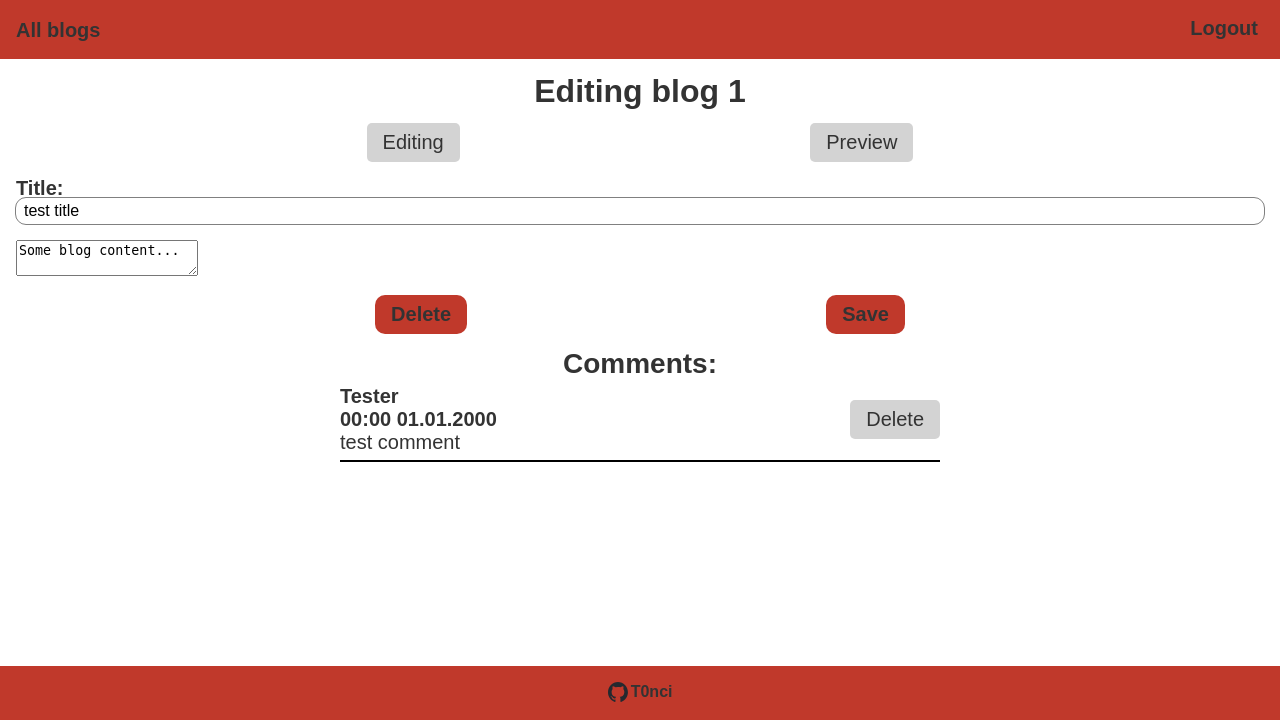
Test: BlogForm Component › deletes a comment
Click the button "Delete" in the row of "Tester" at coordinates (895, 419), box x1=850 y1=400 x2=940 y2=439
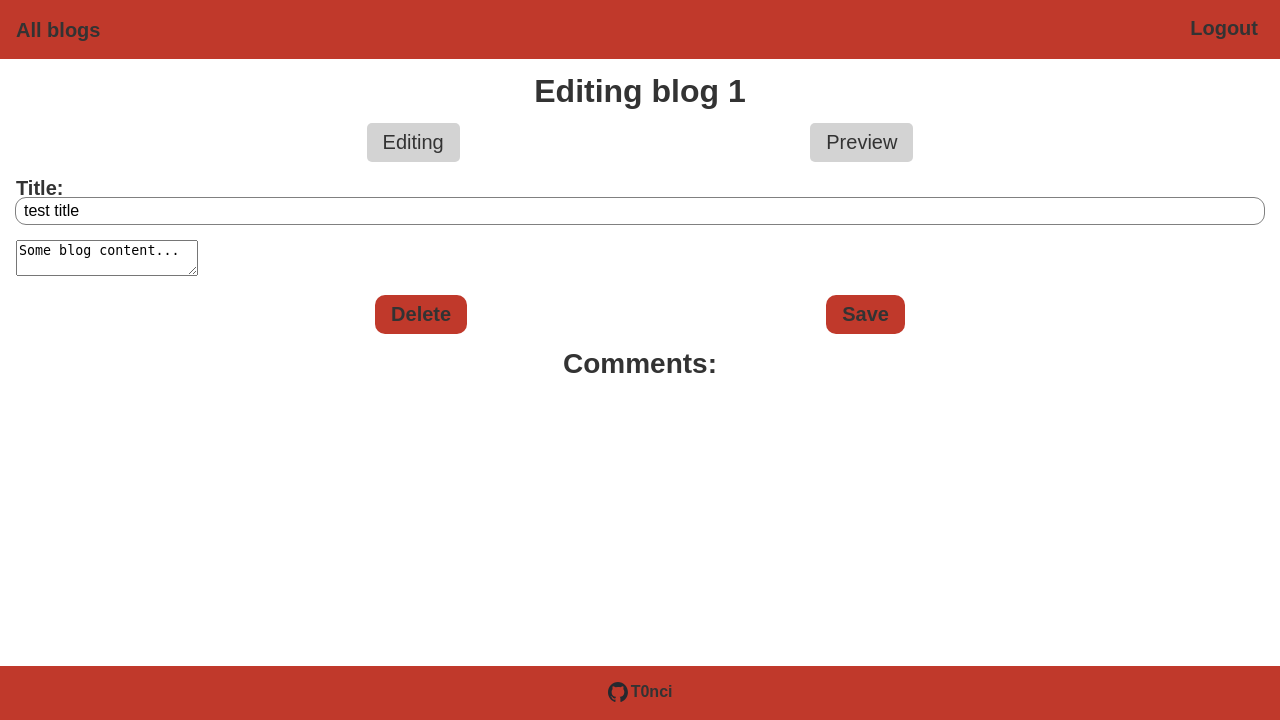
Expected: the list item "Tester Delete 00:00 01.01.2000 test comment" is gone
